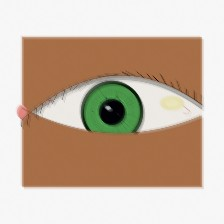pinguecula_lesion: (148, 84, 196, 122)
